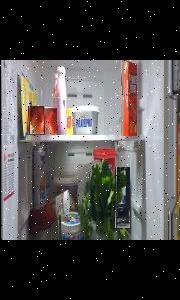Huevos: (28, 106, 43, 134)
Mermelada: (115, 167, 129, 228)
Queso: (59, 215, 84, 240)
Salsa de tomate: (121, 60, 136, 136)
Tomate: (44, 108, 56, 136)
